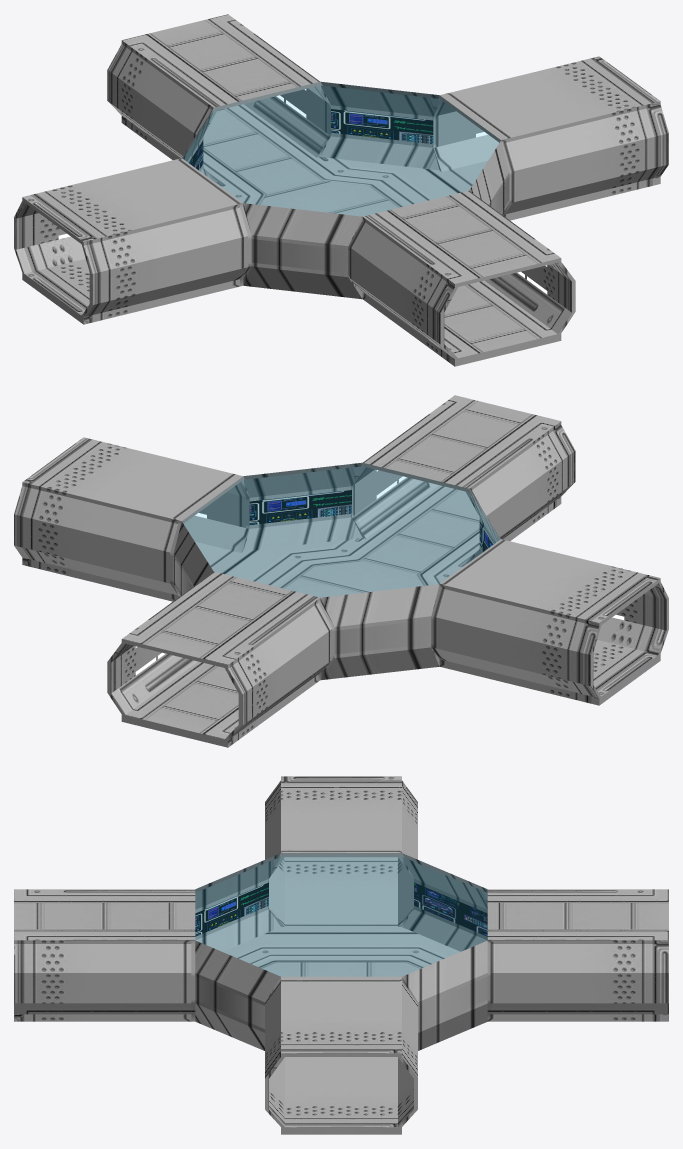
File: modular_hallway_cross_type_01.glb
The picture shows the model from 3 angles, top to bottom: view 1: azimuth 30°, elevation 25°; view 2: azimuth 150°, elevation 25°; view 3: azimuth 270°, elevation 25°; orthographic projection.
Parts seen in each view (by area): view 1: Gang_4er_Kreuzung001; view 2: Gang_4er_Kreuzung001; view 3: Gang_4er_Kreuzung001.
Boxes of the visible parts, x1=… form: Gang_4er_Kreuzung001: x1=14, y1=14, x2=668, y2=366; Gang_4er_Kreuzung001: x1=14, y1=395, x2=668, y2=747; Gang_4er_Kreuzung001: x1=14, y1=776, x2=668, y2=1134.
Bounding box in the file's own units: 20.65 × 2.83 × 20.65.
7 materials, 5 textured.
